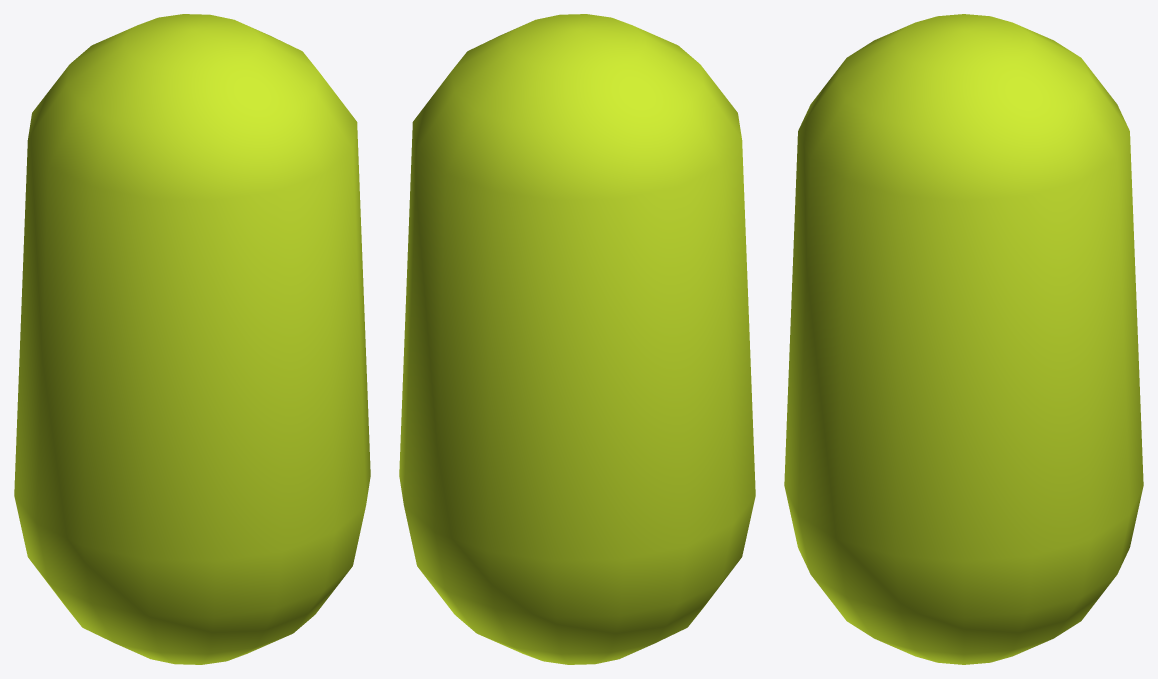
Rendered from corpo_giallo.glb.
The picture shows the model from 3 angles, left to right: view 1: azimuth 30°, elevation 25°; view 2: azimuth 150°, elevation 25°; view 3: azimuth 270°, elevation 25°; orthographic projection.
Parts seen in each view (by area): view 1: mastro_corpo.002; view 2: mastro_corpo.002; view 3: mastro_corpo.002.
Boxes of the visible parts, left/top/right/bottom form: mastro_corpo.002: left=14, top=14, right=370, bottom=664; mastro_corpo.002: left=399, top=14, right=755, bottom=664; mastro_corpo.002: left=784, top=14, right=1143, bottom=664.
Size of the model in its own units: 0.1785 by 0.3386 by 0.1785.
